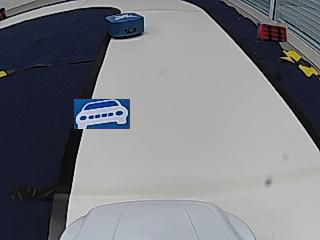prop: (106, 13, 144, 39)
